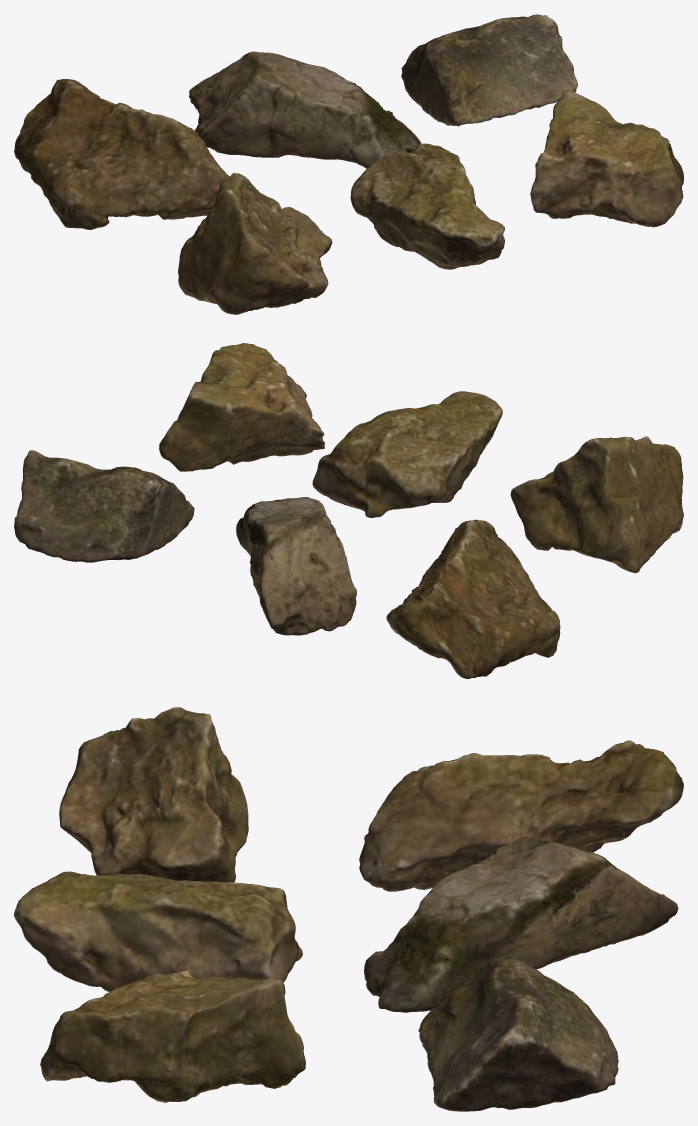
The model's file is rock_moss_set_01.glb.
The picture shows the model from 3 angles, top to bottom: view 1: azimuth 30°, elevation 25°; view 2: azimuth 150°, elevation 25°; view 3: azimuth 270°, elevation 25°; orthographic projection. The views are drawn at different scales.
Parts seen in each view (by area): view 1: rock_moss_set_01_rock01, rock_moss_set_01_rock02, rock_moss_set_01_rock06, rock_moss_set_01_rock04, rock_moss_set_01_rock03, rock_moss_set_01_rock05; view 2: rock_moss_set_01_rock04, rock_moss_set_01_rock01, rock_moss_set_01_rock05, rock_moss_set_01_rock03, rock_moss_set_01_rock06, rock_moss_set_01_rock02; view 3: rock_moss_set_01_rock01, rock_moss_set_01_rock02, rock_moss_set_01_rock05, rock_moss_set_01_rock06, rock_moss_set_01_rock04, rock_moss_set_01_rock03.
Part boxes in pixels (x1,y1,x2,y2): rock_moss_set_01_rock01: [14, 79, 229, 229]; rock_moss_set_01_rock02: [189, 51, 421, 168]; rock_moss_set_01_rock06: [530, 89, 683, 227]; rock_moss_set_01_rock04: [178, 172, 332, 314]; rock_moss_set_01_rock03: [401, 14, 577, 126]; rock_moss_set_01_rock05: [350, 143, 504, 269]; rock_moss_set_01_rock04: [510, 436, 683, 573]; rock_moss_set_01_rock01: [386, 519, 560, 678]; rock_moss_set_01_rock05: [312, 391, 502, 517]; rock_moss_set_01_rock03: [14, 450, 194, 562]; rock_moss_set_01_rock06: [159, 343, 324, 471]; rock_moss_set_01_rock02: [236, 497, 356, 635]; rock_moss_set_01_rock01: [359, 740, 683, 891]; rock_moss_set_01_rock02: [364, 836, 678, 1012]; rock_moss_set_01_rock05: [14, 871, 302, 991]; rock_moss_set_01_rock06: [40, 970, 305, 1102]; rock_moss_set_01_rock04: [59, 707, 248, 882]; rock_moss_set_01_rock03: [418, 956, 618, 1111].
Size of the model in its own units: 8 by 1.77 by 6.95.
Materials: 1 (1 with a texture image).
